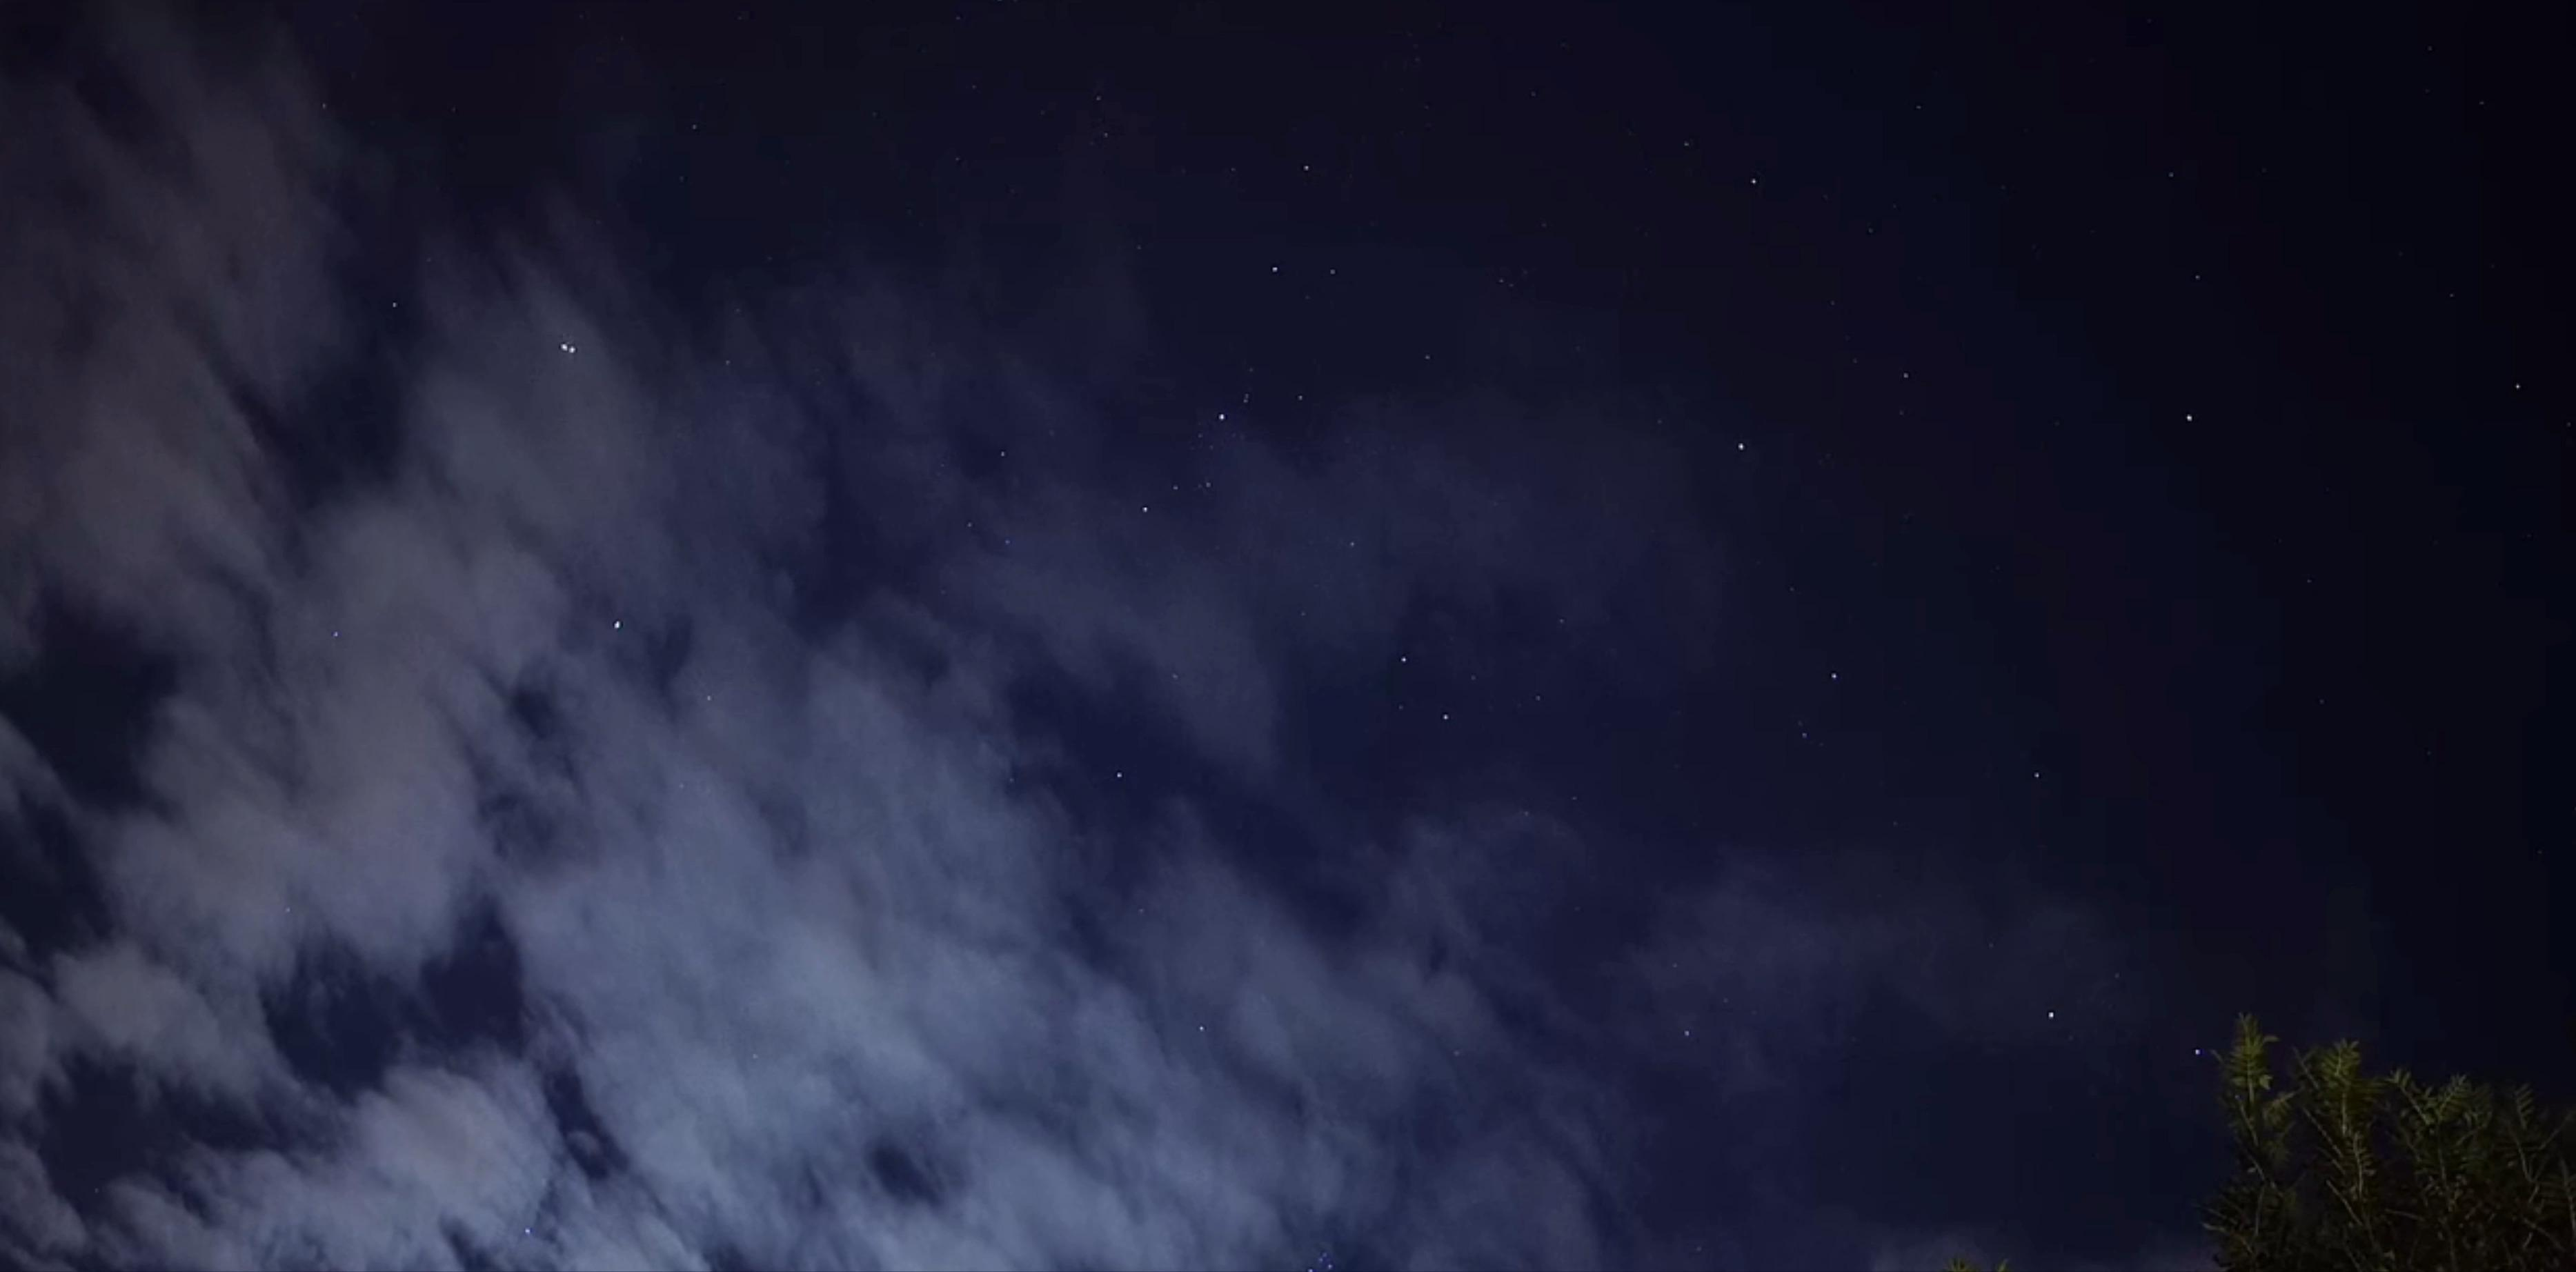Plane: (542, 335, 598, 357)
